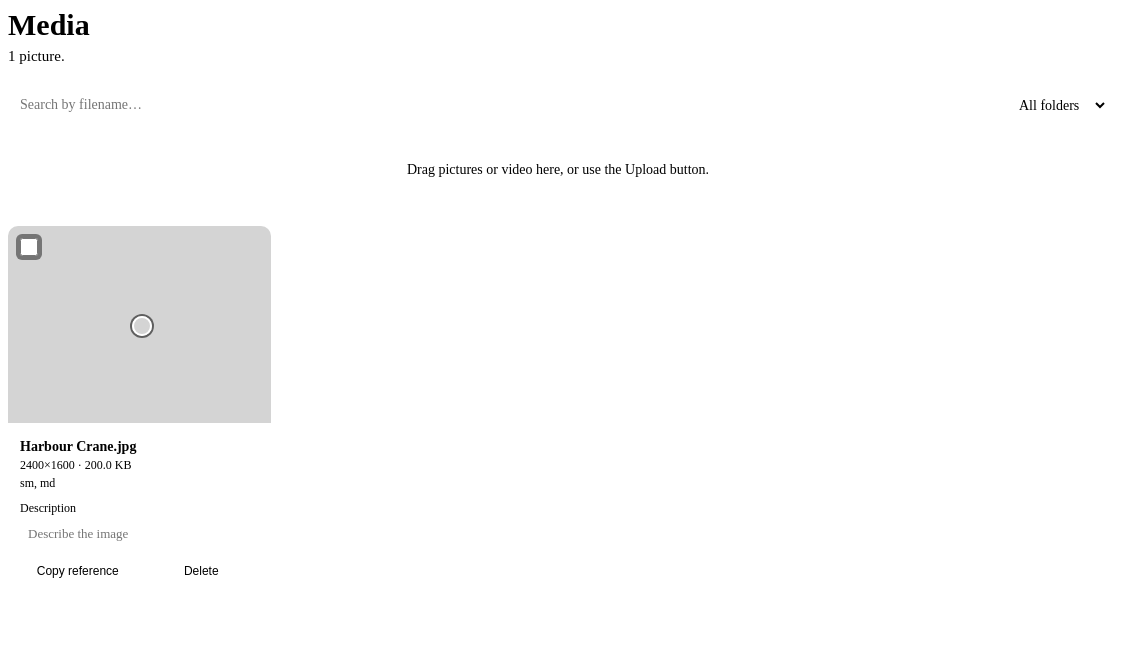
it: single media deletion › keeps the item and reports when the server refuses deletion
Click the button with class "danger".
click(201, 571)  # box [144,558,259,583]
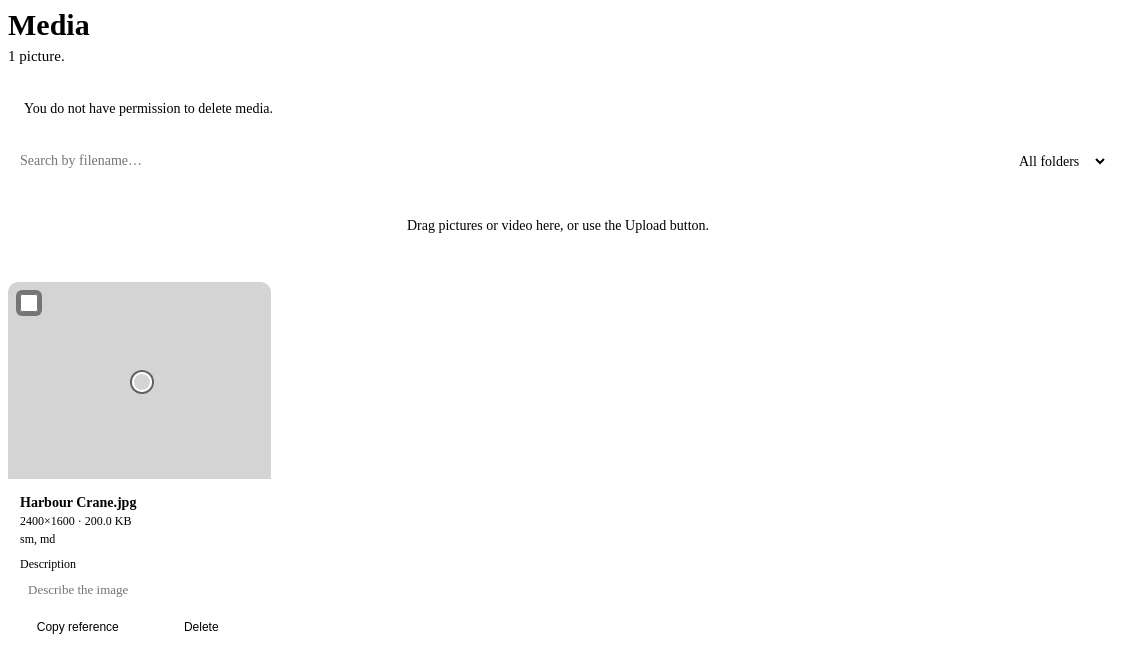
Expected: the message "You do not have permission to delete media." is shown, [24,101,273,116]
